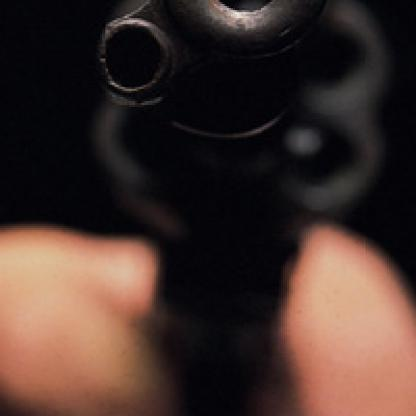gun: (60, 0, 408, 414)
